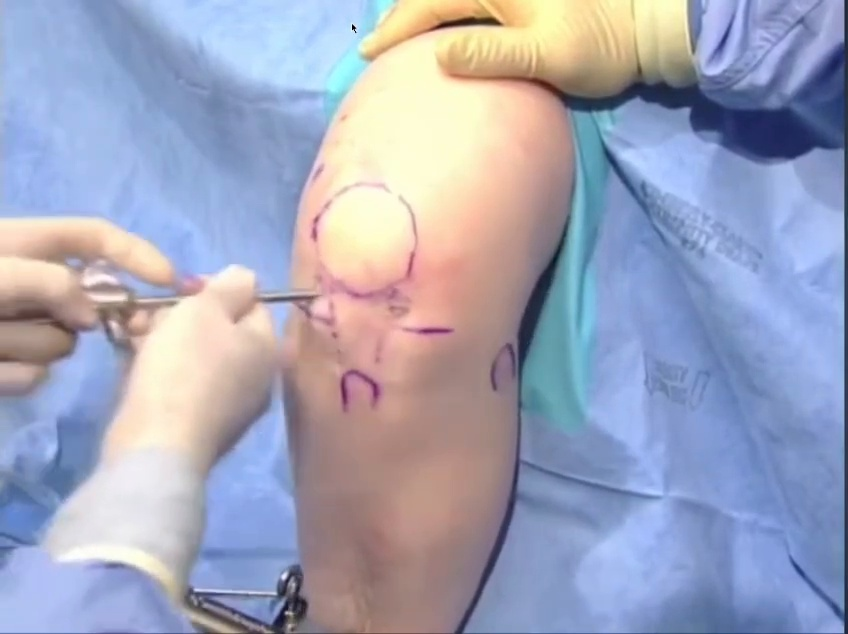arthroscope: (424, 10, 751, 634), (23, 130, 402, 508)
probe: (718, 125, 848, 634), (569, 0, 848, 109)
